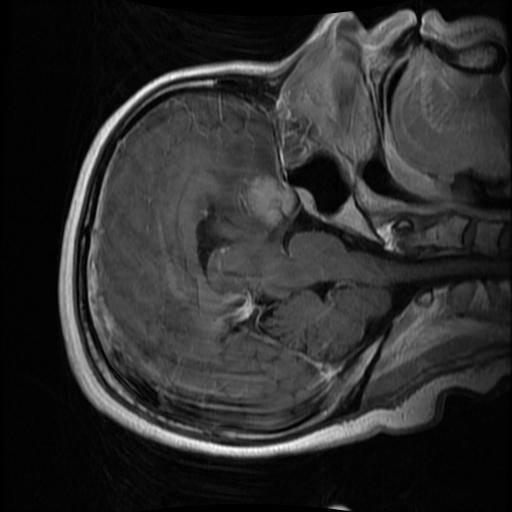meningioma: (236, 176, 298, 232)
